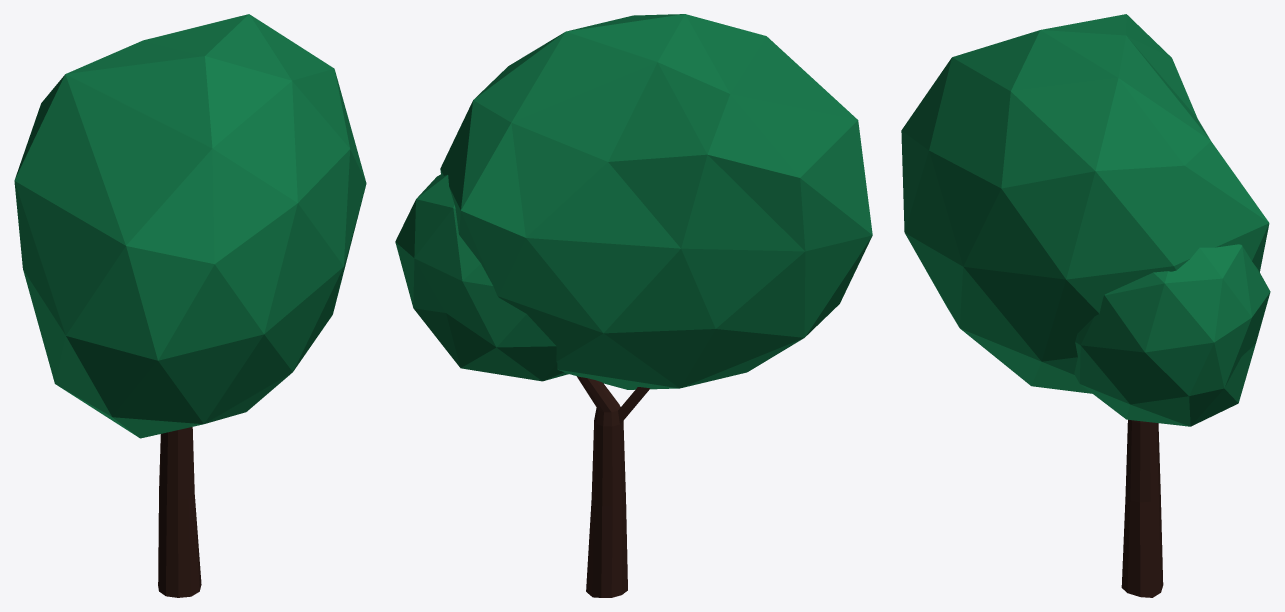
File: Bush2.fbx
3 renders of one model, left to right at view 1: azimuth 30°, elevation 25°; view 2: azimuth 150°, elevation 25°; view 3: azimuth 270°, elevation 25°, orthographic. The views are drawn at different scales.
Parts seen in each view (by area): view 1: Cylinder.023; view 2: Cylinder.023; view 3: Cylinder.023.
Part boxes in pixels (<box>): Cylinder.023: <box>14,14,366,597</box>; Cylinder.023: <box>395,14,872,597</box>; Cylinder.023: <box>901,14,1270,597</box>.
Bounding box in the file's own units: 211 × 305 × 186.
